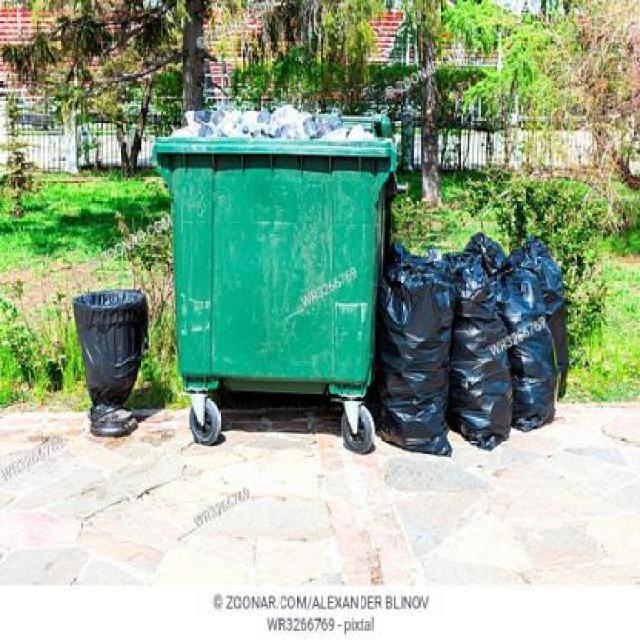garbage container: (154, 131, 395, 466)
